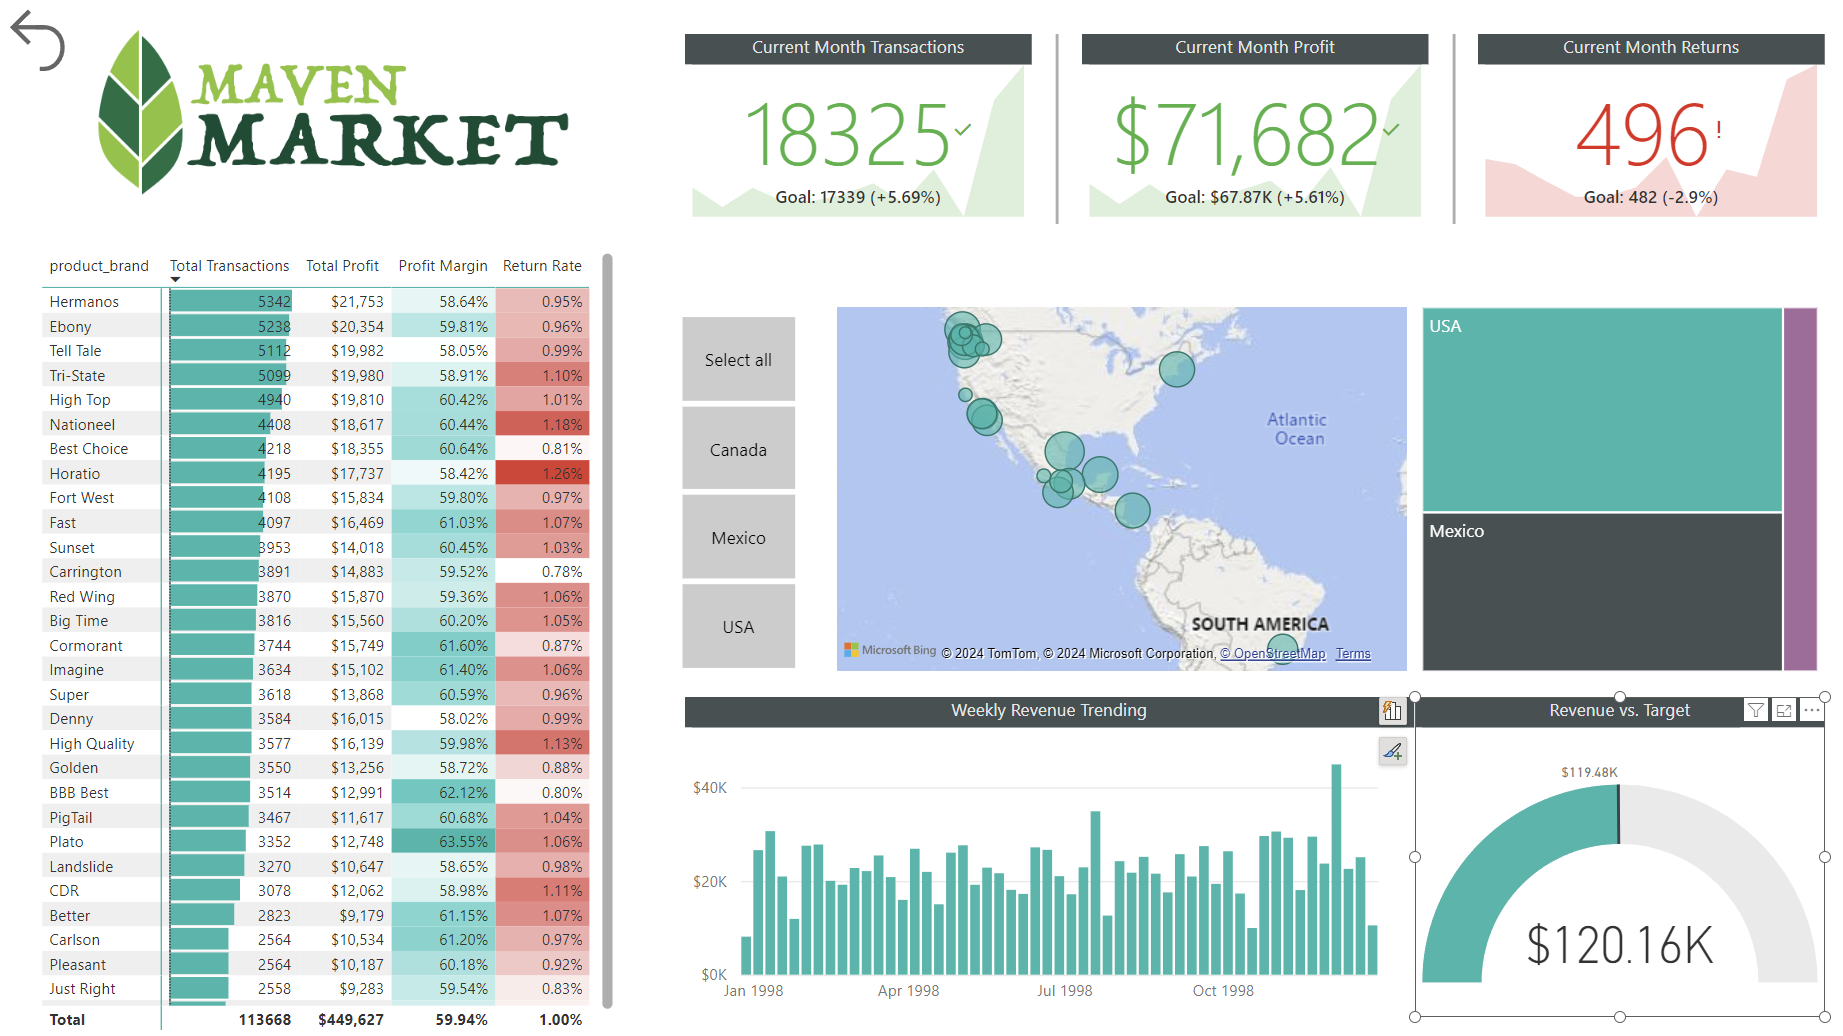

What the dashboard file says about the page in this screenshot:
{"tool":"powerbi","page":{"name":"Topline Performance","canvas":[1280,720],"ordinal":0},"visuals":[{"type":"image","box":[54.9,0,352.1,155.6],"z":0},{"type":"pivotTable","fields":{"Rows":["Products.product_brand"],"Values":["Transaction_Data.Total Transactions","Transaction_Data.Total Profit","Transaction_Data.Profit Margin","Return_Data.Return Rate"]},"box":[25.5,170.3,405.5,549.5],"z":1000},{"type":"kpi","title":"Current Month Transactions","fields":{"Indicator":["Transaction_Data.Total Transactions"],"TrendLine":["Calendar.Start of Month"],"Goal":["Transaction_Data.Last Month Transactions"]},"box":[475.9,24,239.9,131.6],"z":2000},{"type":"kpi","title":"Current Month Profit","fields":{"TrendLine":["Calendar.Start of Month"],"Indicator":["Transaction_Data.Total Profit"],"Goal":["Transaction_Data.Last Month Profit"]},"box":[750.7,24,239.9,131.6],"z":3000},{"type":"kpi","title":"Current Month Returns","fields":{"TrendLine":["Calendar.Start of Month"],"Indicator":["Return_Data.Total Returns"],"Goal":["Return_Data.Last Month Returns"]},"box":[1025.4,24,239.9,131.6],"z":4000},{"type":"map","fields":{"Category":["Stores.store_city"],"Size":["Transaction_Data.Total Transactions"]},"box":[576.2,208.2,404.7,262.3],"z":5000},{"type":"slicer","fields":{"Values":["Stores.store_country"]},"box":[448.1,213.6,127.7,256.9],"z":6000},{"type":"treemap","fields":{"Values":["Transaction_Data.Total Transactions"],"Group":["Stores.store_country","Stores.store_state","Stores.store_city"]},"box":[981.3,208.2,284,262.3],"z":7000},{"type":"shape","box":[706.6,24,54.2,131.6],"z":8000},{"type":"shape","box":[981.3,24,54.2,131.6],"z":9000},{"type":"columnChart","title":"Weekly Revenue Trending","fields":{"Y":["Transaction_Data.Total Revenue"],"Category":["Calendar.Start of Week"]},"box":[475.9,483.7,504.6,221.3],"z":10000},{"type":"gauge","title":"Revenue vs. Target","fields":{"Y":["Transaction_Data.Total Revenue"],"TargetValue":["Transaction_Data.Revenue Target"]},"box":[981.3,483.7,284,221.3],"z":11000},{"type":"actionButton","box":[0,0,55.1,57.9],"z":12000}]}

Visuals, with their boxes in screenshot pixels (x1, y1, x2, y2), scaled from the page's 1280x720 canvas onto the 1843x1036 screenshot:
image: [left=79, top=0, right=586, bottom=224]
pivotTable - Products.product_brand x Transaction_Data.Total Transactions: [left=37, top=245, right=621, bottom=1035]
"Current Month Transactions" kpi: [left=685, top=35, right=1031, bottom=224]
"Current Month Profit" kpi: [left=1081, top=35, right=1426, bottom=224]
"Current Month Returns" kpi: [left=1476, top=35, right=1822, bottom=224]
map - Stores.store_city x Transaction_Data.Total Transactions: [left=830, top=300, right=1412, bottom=677]
slicer - Stores.store_country: [left=645, top=307, right=829, bottom=677]
treemap - Transaction_Data.Total Transactions x Stores.store_country: [left=1413, top=300, right=1822, bottom=677]
shape: [left=1017, top=35, right=1095, bottom=224]
shape: [left=1413, top=35, right=1491, bottom=224]
"Weekly Revenue Trending" columnChart: [left=685, top=696, right=1412, bottom=1014]
"Revenue vs. Target" gauge: [left=1413, top=696, right=1822, bottom=1014]
actionButton: [left=0, top=0, right=79, bottom=83]
